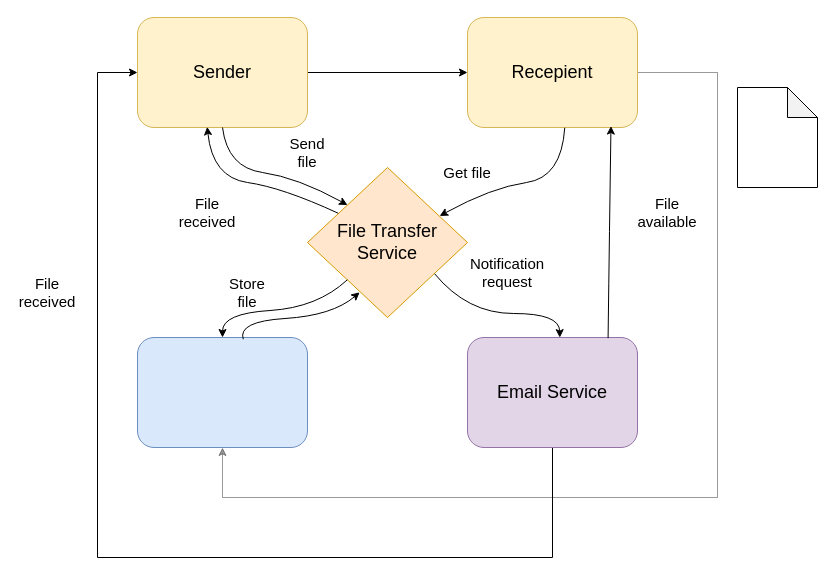
Some shapes in this 835 by 583 pixel diagram are drawn without their labels. The centre of each missing label's shape, as x and y in pixels:
"Cloud(FileStorage)" goes at point (222, 392).
"User downloads the file directly from Cloud using the WebApp" goes at point (777, 137).
